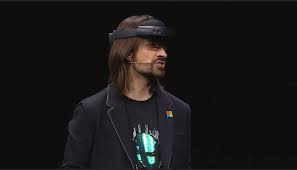hololens: (108, 18, 176, 46)
